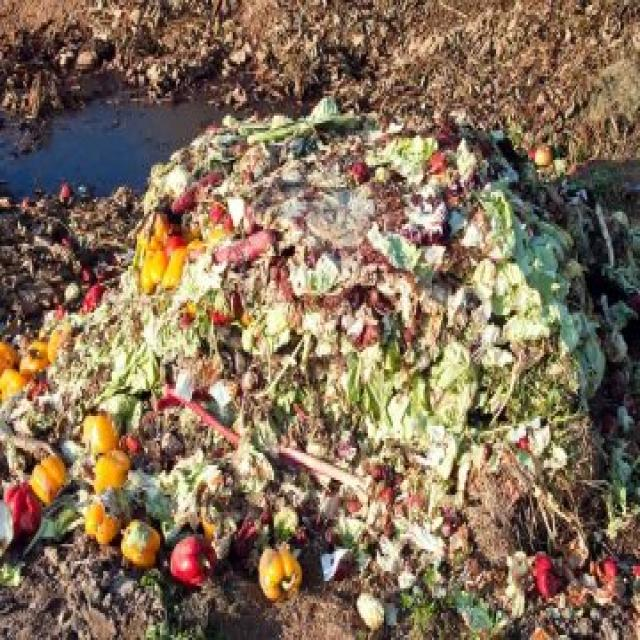food_waste: (12, 302, 570, 565), (199, 159, 551, 575)
